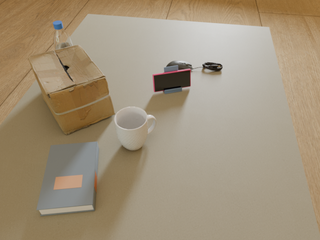book: (37, 142, 99, 216)
bottle: (53, 21, 73, 50)
box: (28, 45, 115, 135)
cup: (114, 107, 156, 150)
mouse: (166, 61, 193, 71)
phone: (153, 69, 191, 92)
